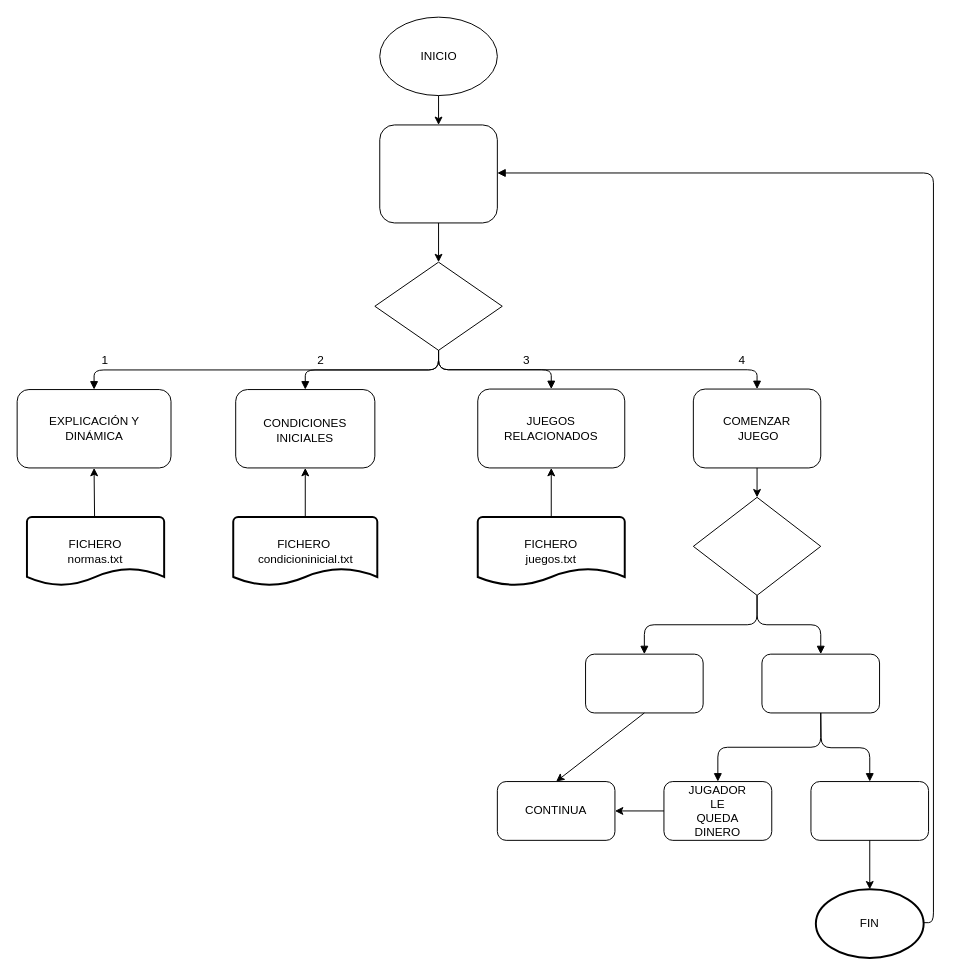
This 958x976 diagram has some shape labels left out. The shapes that lost their labels are listed below. From the top down, each one's box as (x1, y1, x2, y2) in pixels, then its label:
(379, 124, 497, 223): MENÚ PRINCIPAL
(374, 261, 502, 350): ¿QUÉ DESEA HACER?
(692, 496, 821, 595): REPARTE EL DINERO ENTRE LAS RESPUESTAS
(585, 653, 703, 713): ACIERTA
(761, 653, 880, 713): FALLA
(810, 781, 929, 840): PIERDE TODO EL DINERO
